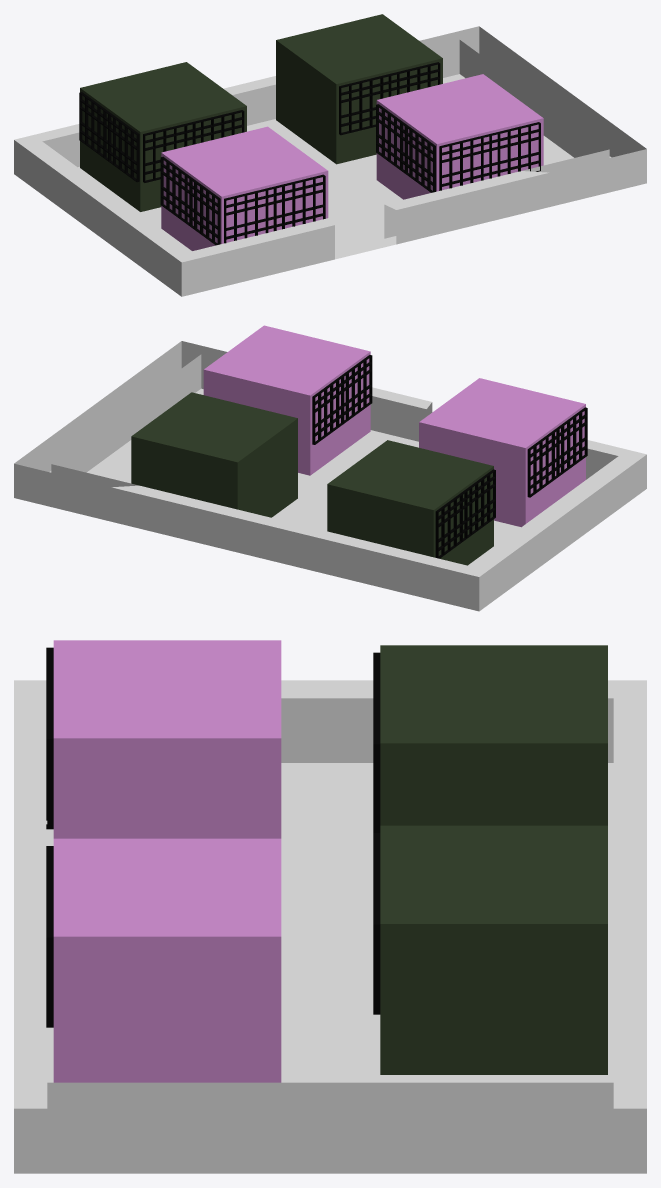
File: GBlock.fbx
3 renders of one model, top to bottom at view 1: azimuth 30°, elevation 25°; view 2: azimuth 150°, elevation 25°; view 3: azimuth 270°, elevation 25°, orthographic. The views are drawn at different scales.
Parts seen in each view (by area): view 1: Cube, Cube.007, Cube.006, Cube.011, Cube.003, Cube.004, Cube.010, Cube.001, Cube.005, Cube.009, Cube.008, Cube.002; view 2: Cube, Cube.007, Cube.006, Cube.003, Cube.011, Cube.005, Cube.009, Cube.001; view 3: Cube, Cube.007, Cube.011, Cube.003, Cube.006, Cube.004, Cube.008, Cube.010, Cube.002.
Part boxes in pixels (<box>): Cube: <box>14,26,646,296</box>; Cube.007: <box>276,14,442,164</box>; Cube.006: <box>80,62,246,211</box>; Cube.011: <box>376,74,543,199</box>; Cube.003: <box>161,126,328,250</box>; Cube.004: <box>224,174,325,243</box>; Cube.010: <box>439,122,540,190</box>; Cube.001: <box>79,92,139,182</box>; Cube.005: <box>160,156,220,245</box>; Cube.009: <box>376,104,435,192</box>; Cube.008: <box>339,62,440,135</box>; Cube.002: <box>143,110,244,182</box>; Cube: <box>14,341,646,611</box>; Cube.007: <box>131,392,297,517</box>; Cube.006: <box>327,440,493,565</box>; Cube.003: <box>419,378,585,527</box>; Cube.011: <box>203,325,370,475</box>; Cube.005: <box>527,407,587,497</box>; Cube.009: <box>312,355,372,444</box>; Cube.001: <box>435,469,495,558</box>; Cube: <box>14,680,646,1173</box>; Cube.007: <box>380,825,607,1074</box>; Cube.011: <box>53,838,281,1082</box>; Cube.003: <box>53,640,281,838</box>; Cube.006: <box>380,645,607,825</box>; Cube.004: <box>46,647,53,829</box>; Cube.008: <box>373,833,380,1014</box>; Cube.010: <box>46,846,53,1027</box>; Cube.002: <box>373,652,380,832</box>.
Size of the model in its own units: 8596 by 1442 by 5367.
